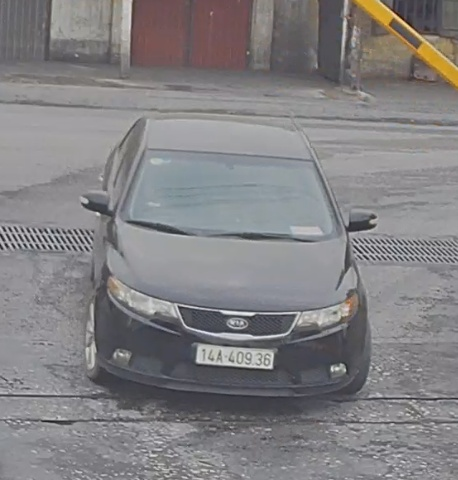vehicle plate: (193, 338, 280, 367)
